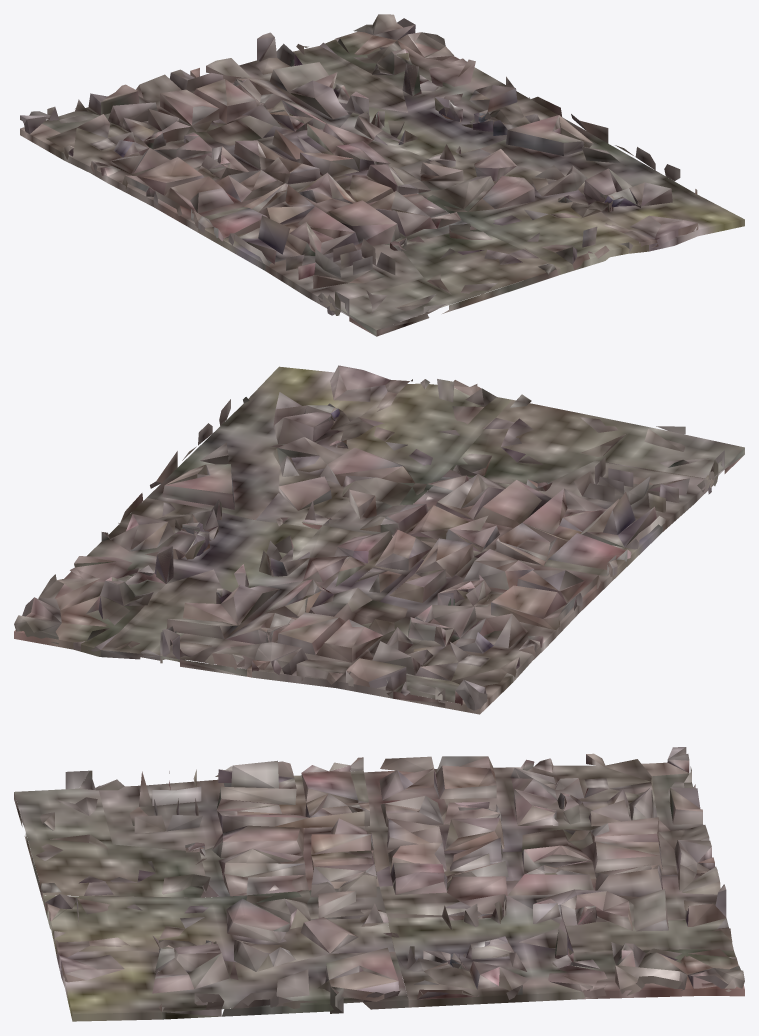
3 views of the same model, one above another, from view 1: azimuth 30°, elevation 25°; view 2: azimuth 150°, elevation 25°; view 3: azimuth 270°, elevation 25° (orthographic). The views are drawn at different scales.
Parts seen in each view (by area): view 1: Mesh_0; view 2: Mesh_0; view 3: Mesh_0.
Boxes of the visible parts, <box> form: Mesh_0: <box>20,14,744,336</box>; Mesh_0: <box>14,365,744,714</box>; Mesh_0: <box>14,747,744,1021</box>.
Size of the model in its own units: 1080 by 114 by 1318.
2 materials, 2 textured.
